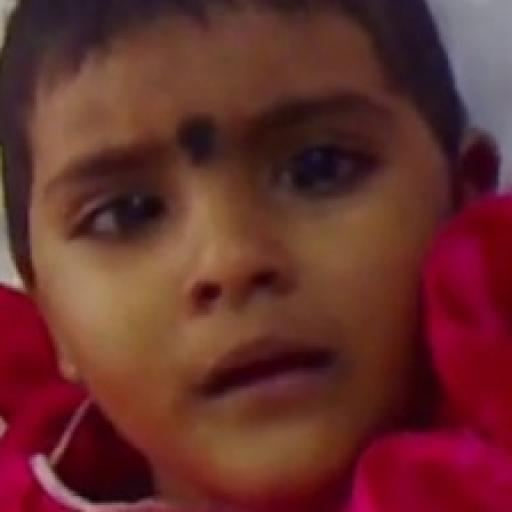Autism: (44, 12, 463, 484)
